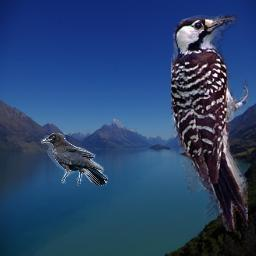Crow: (41, 133, 108, 186)
Woodpecker: (171, 14, 248, 232)
